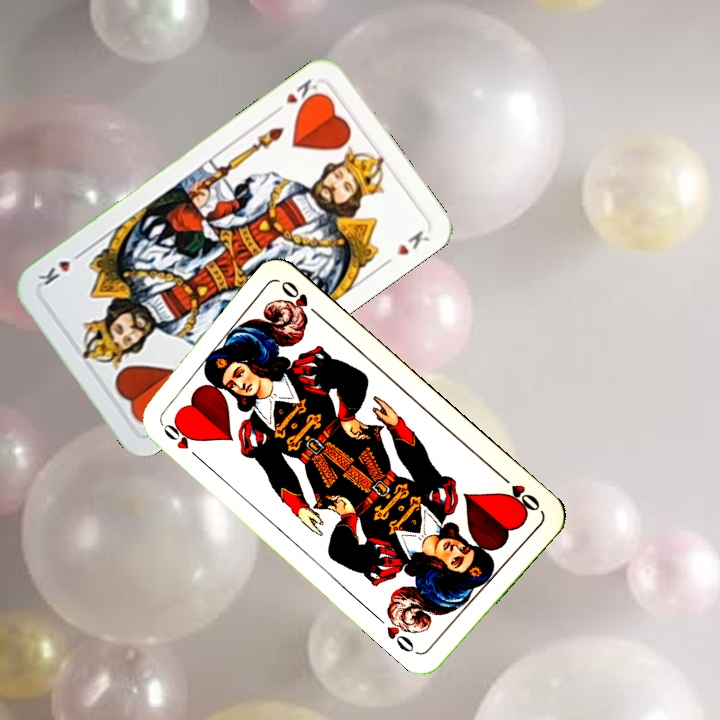HK: (269, 75, 324, 117)
HO: (495, 470, 543, 516), (156, 417, 198, 452)
